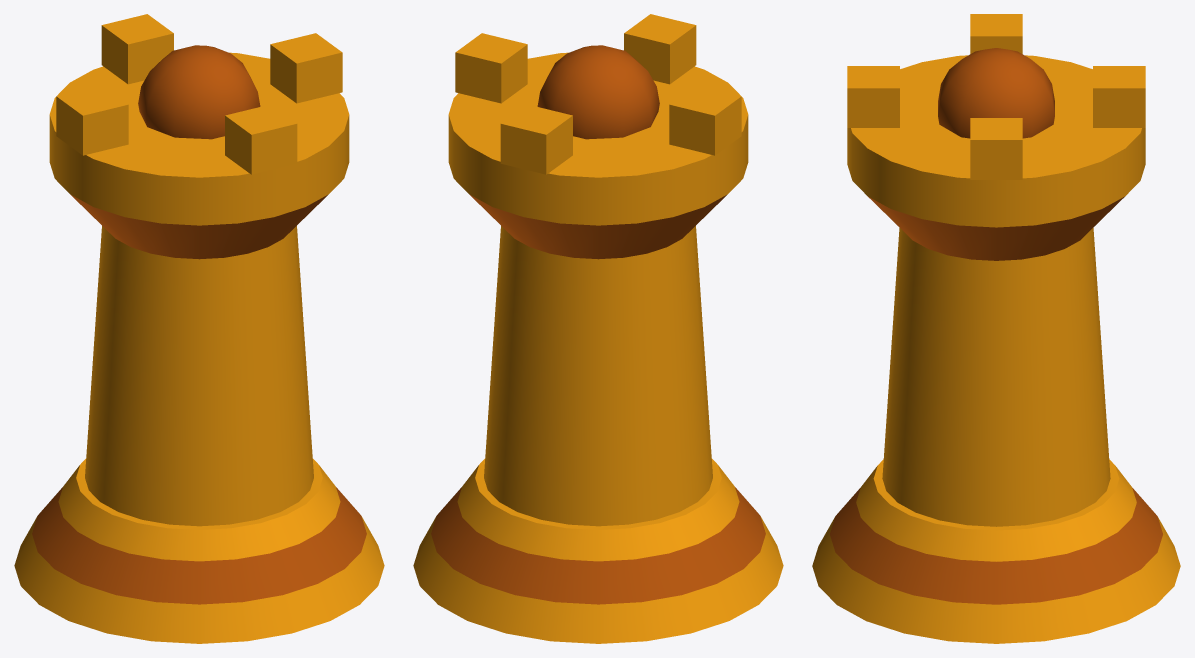
Rendered from pawn_rook.glb.
3 views of the same model, side by side, from view 1: azimuth 30°, elevation 25°; view 2: azimuth 150°, elevation 25°; view 3: azimuth 270°, elevation 25° (orthographic).
Parts seen in each view (by area): view 1: Pawn_Tower_Citadel; view 2: Pawn_Tower_Citadel; view 3: Pawn_Tower_Citadel.
Part boxes in pixels (x1,y1,x2,y2): Pawn_Tower_Citadel: (14, 14, 384, 643); Pawn_Tower_Citadel: (413, 14, 783, 643); Pawn_Tower_Citadel: (812, 14, 1180, 643).
Bounding box in the file's own units: 0.84 × 1.29 × 0.84.
